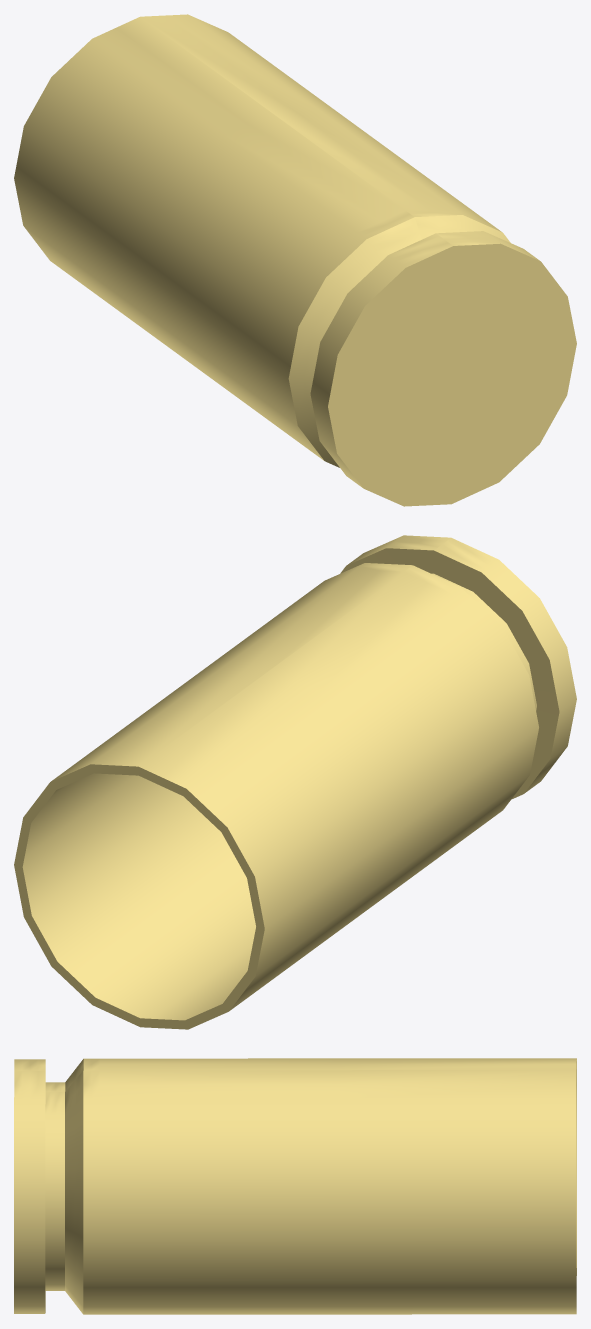
File: ShellHi-Pow.glb
3 renders of one model, top to bottom at view 1: azimuth 30°, elevation 25°; view 2: azimuth 150°, elevation 25°; view 3: azimuth 270°, elevation 25°, orthographic. The views are drawn at different scales.
Visible parts, largest first — view 1: Shell; view 2: Shell; view 3: Shell.
Boxes of the visible parts, x1,y1,x2,y2 form: Shell: [14, 14, 576, 506]; Shell: [14, 535, 576, 1029]; Shell: [14, 1058, 576, 1314].
Bounding box in the file's own units: 0.0202 × 0.0199 × 0.0435.
Materials: 1 (1 with a texture image).
